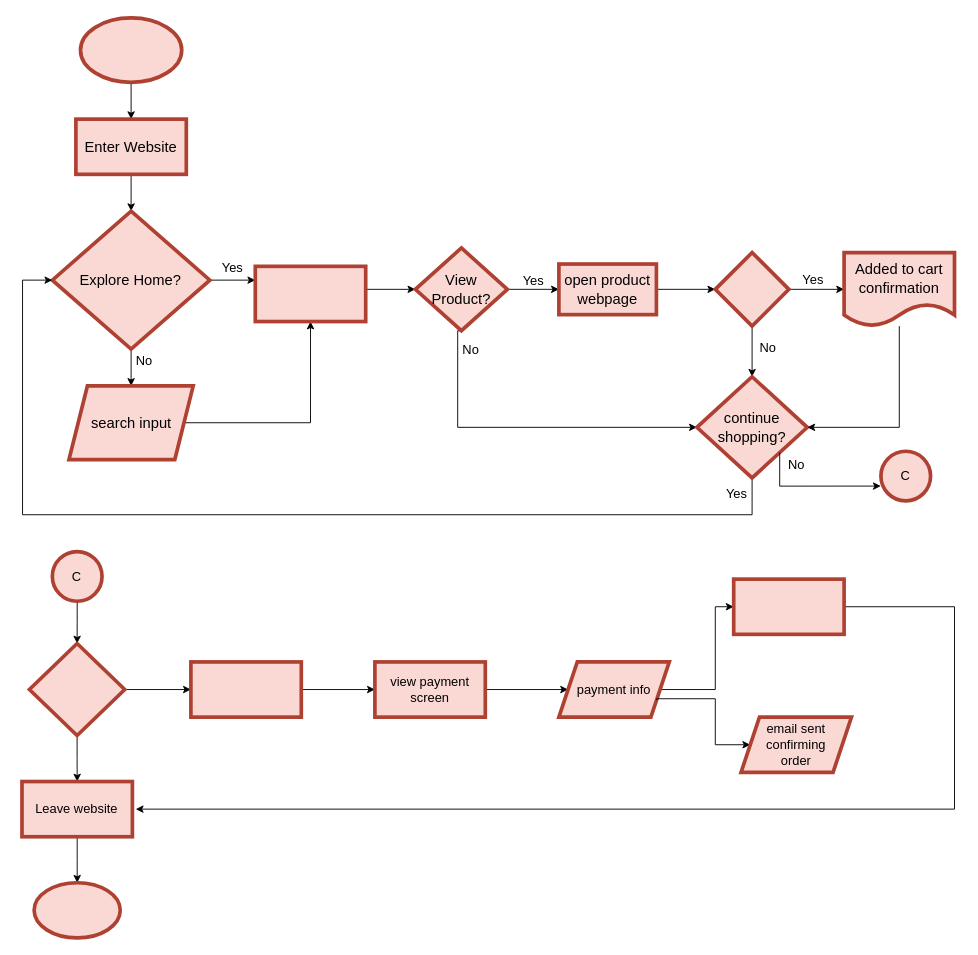
This 978x955 diagram has some shape labels left out. The centre of each missing label's shape, as x and y in pixels:
Add to Cart?: the point at 751,289
Checkout?: the point at 76,689
END: the point at 77,909
Look over products: the point at 310,293
Order conformation screen: the point at 788,606
START: the point at 130,50
view cart screen: the point at 246,689
